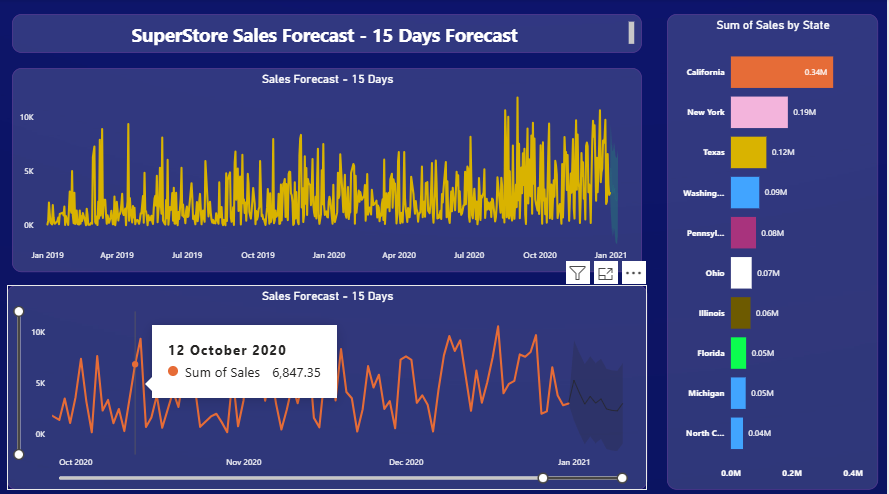

The dashboard page shown, as its layout file describes it:
{"tool":"powerbi","page":{"name":"Page 2","canvas":[1280,720],"ordinal":1},"visuals":[{"type":"lineChart","title":"Sales Forecast - 15 Days","fields":{"Y":["Sum(SuperStore_Sales_Dataset.Sales)"],"Category":["SuperStore_Sales_Dataset.Order Date"]},"box":[18.7,99.4,907.2,293.8],"z":0},{"type":"lineChart","title":"Sales Forecast - 15 Days","fields":{"Y":["Sum(SuperStore_Sales_Dataset.Sales)"],"Category":["SuperStore_Sales_Dataset.Order Date"]},"box":[11.5,411.8,921.6,295.2],"z":1000},{"type":"clusteredBarChart","fields":{"Y":["Sum(SuperStore_Sales_Dataset.Sales)"],"Category":["SuperStore_Sales_Dataset.State"]},"box":[961.9,21.6,303.8,685.4],"z":2000},{"type":"textbox","box":[18.7,21.6,907.2,56.2],"z":3000}]}

Visuals, with their boxes in screenshot pixels (x1, y1, x2, y2), scaled from the page's 1280x720 canvas onto the 889x494 screenshot:
"Sales Forecast - 15 Days" lineChart: 13, 68, 643, 270
"Sales Forecast - 15 Days" lineChart: 8, 283, 648, 485
clusteredBarChart - Sum(SuperStore_Sales_Dataset.Sales) x SuperStore_Sales_Dataset.State: 668, 15, 879, 485
textbox: 13, 15, 643, 53
